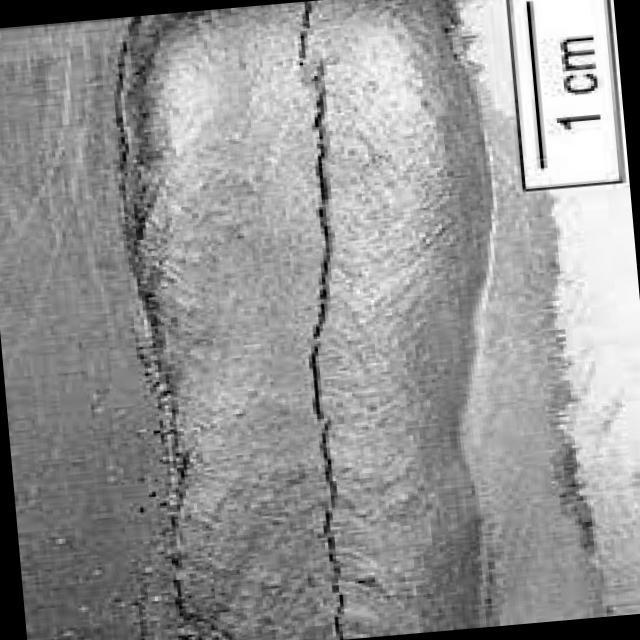defect: (288, 2, 353, 639)
